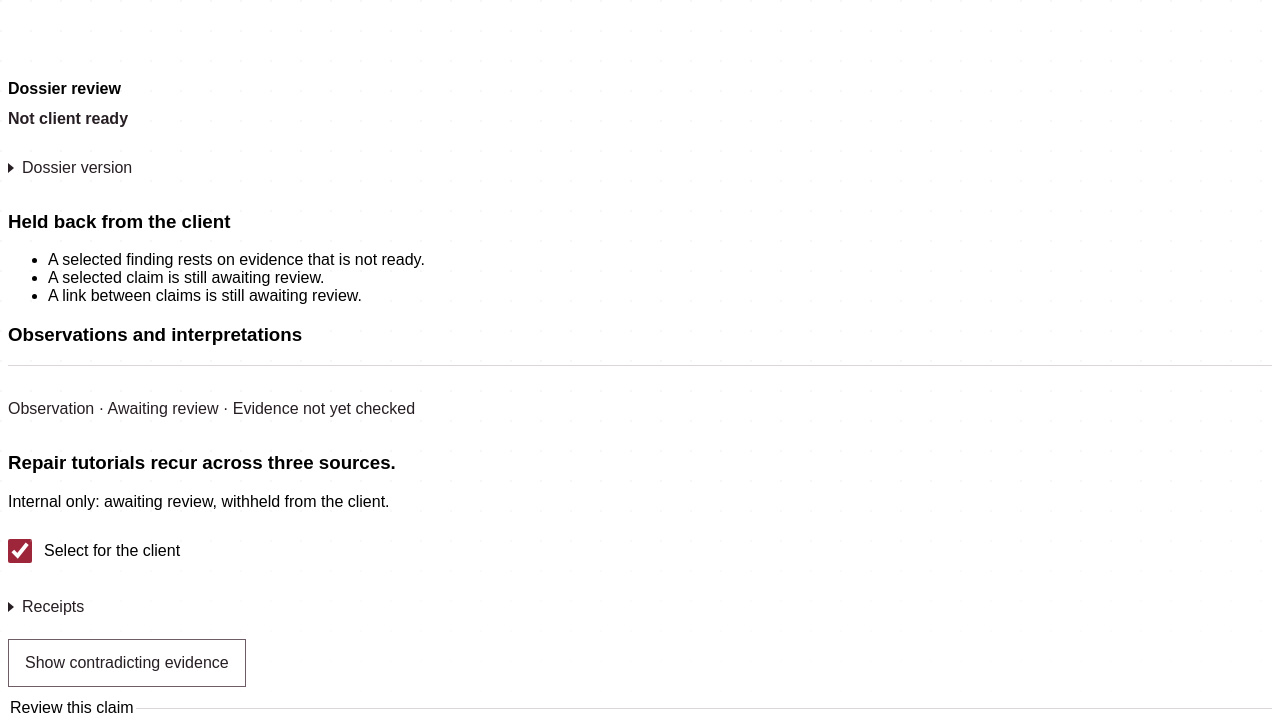
Test: the working sequence › observations and interpretations are shown with their state, and contradicting evidence on request
The image size is (1280, 720).
Check: the text "rcp_9" is not shown
Click the button "Show contradicting evidence": click(127, 663) left=8, top=639, right=246, bottom=687
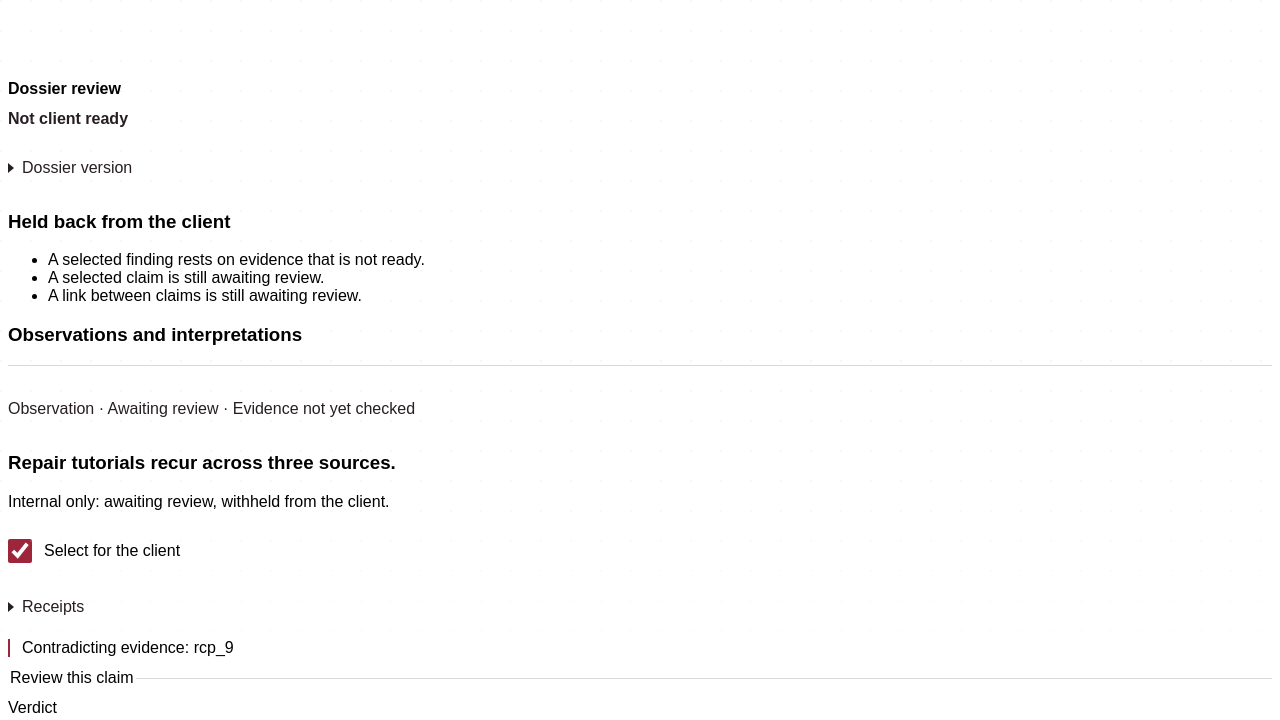
Check: the text "Internal only" is shown, box left=8, top=493, right=390, bottom=510
Check: the text "rcp_9" is shown, box left=194, top=639, right=234, bottom=656
